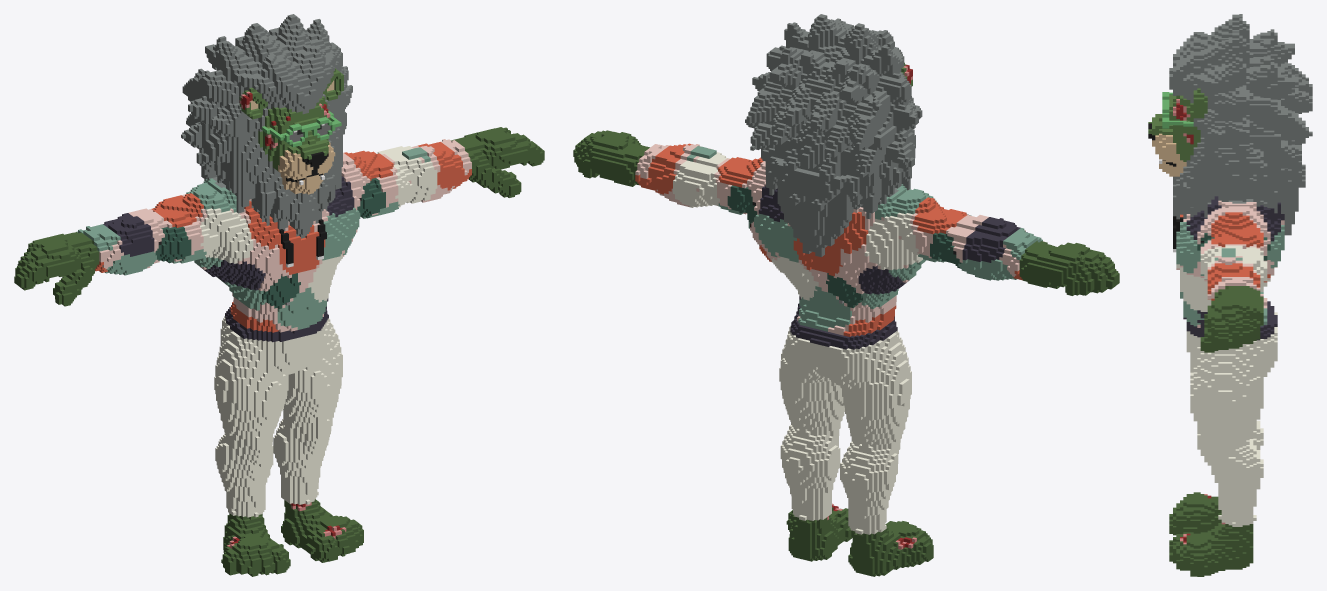
File: 581-B5OmEfBS.fbx
3 renders of one model, left to right at view 1: azimuth 30°, elevation 25°; view 2: azimuth 150°, elevation 25°; view 3: azimuth 270°, elevation 25°, orthographic. The views are drawn at different scales.
Parts seen in each view (by area): view 1: standard; view 2: standard; view 3: standard.
Boxes of the visible parts, left/top/right/bottom form: standard: left=14, top=14, right=544, bottom=576; standard: left=573, top=14, right=1119, bottom=576; standard: left=1148, top=14, right=1312, bottom=576.
Size of the model in its own units: 17.2 by 16.5 by 4.7.
Materials: 5 (5 with a texture image).
